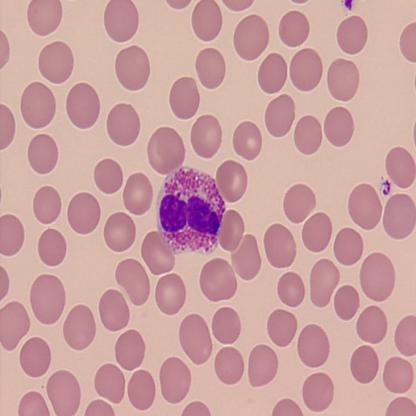Eosinophil: (156, 166, 226, 257)
